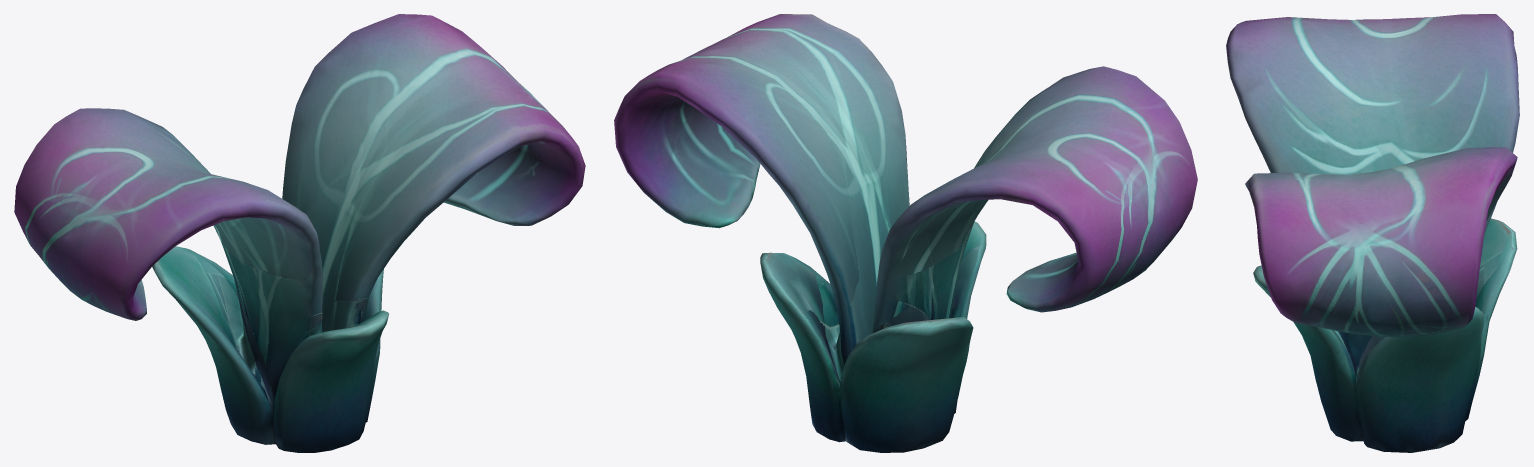
The model's file is Glowing_Fantasy_Plant_2029.fbx.
The picture shows the model from 3 angles, left to right: view 1: azimuth 30°, elevation 25°; view 2: azimuth 150°, elevation 25°; view 3: azimuth 270°, elevation 25°; orthographic projection. The views are drawn at different scales.
Parts seen in each view (by area): view 1: Glowing_Fantasy_Plant_2029; view 2: Glowing_Fantasy_Plant_2029; view 3: Glowing_Fantasy_Plant_2029.
Boxes of the visible parts, x1,y1,x2,y2 form: Glowing_Fantasy_Plant_2029: (14, 14, 585, 452); Glowing_Fantasy_Plant_2029: (614, 14, 1197, 452); Glowing_Fantasy_Plant_2029: (1226, 14, 1519, 452).
Bounding box in the file's own units: 0.45 × 0.3001 × 0.2352.
Materials: 1 (1 with a texture image).
